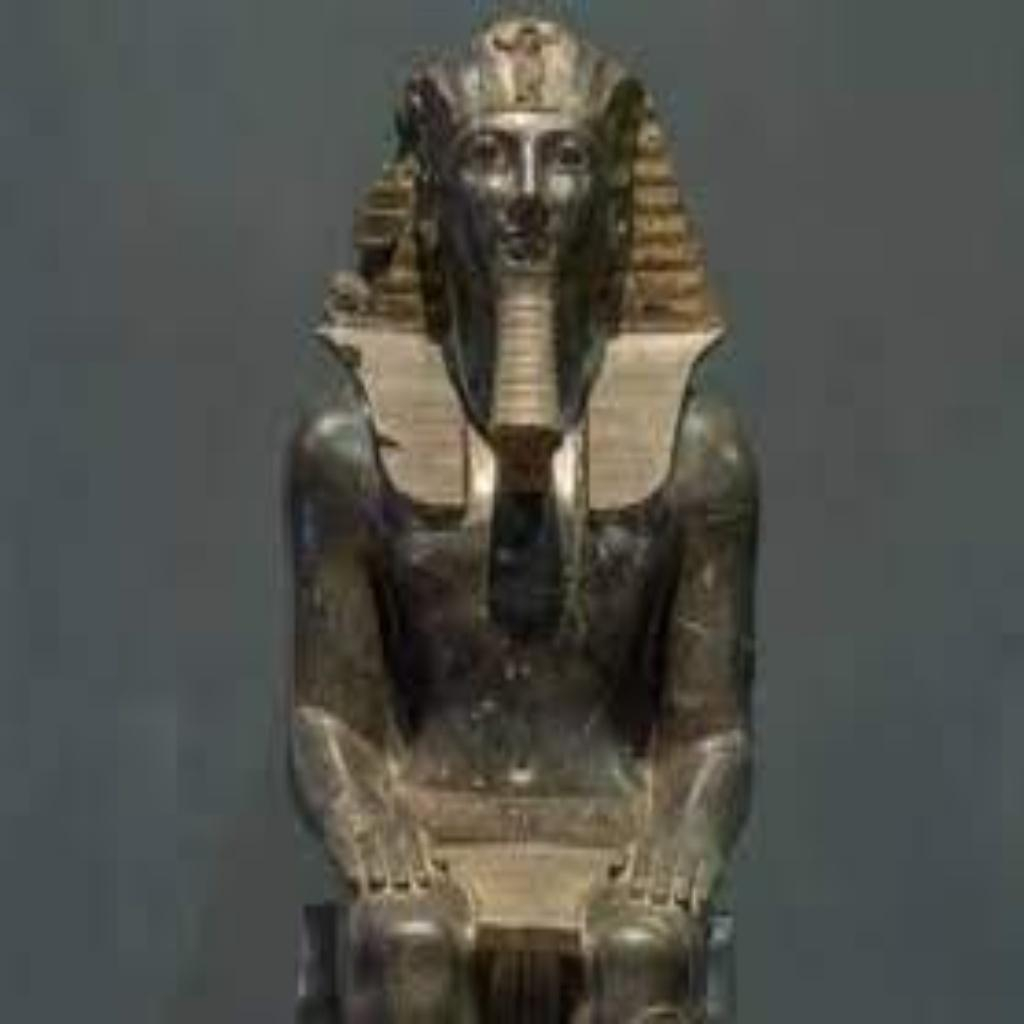King Thutmose III: (272, 6, 762, 1018)
